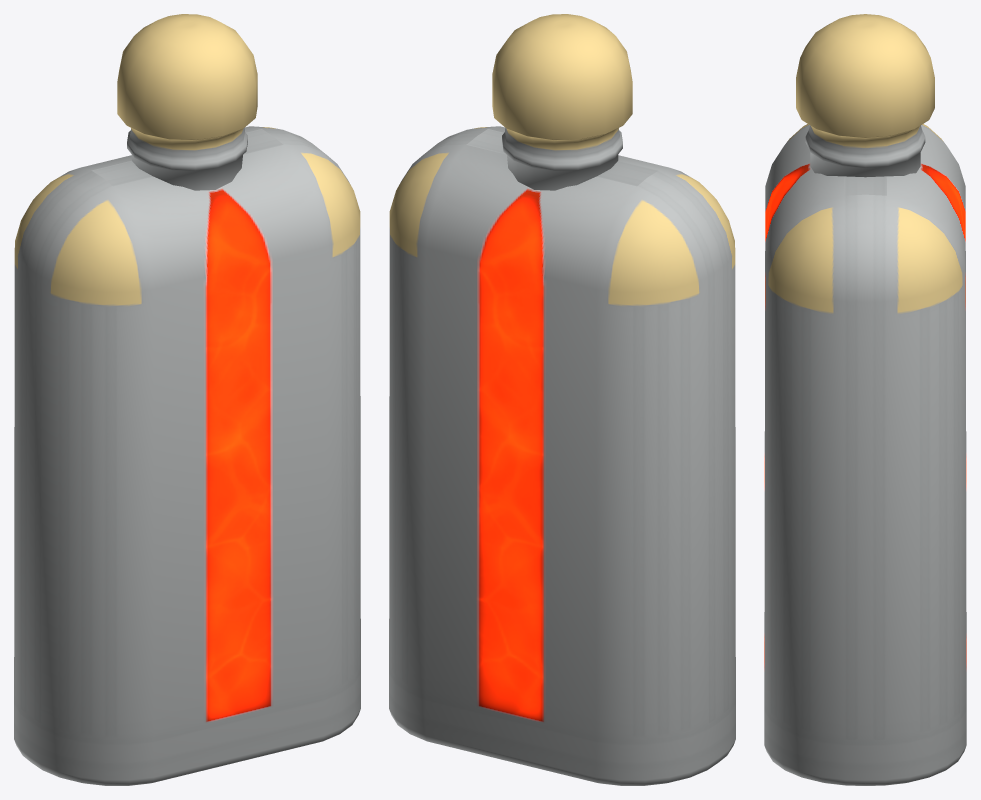
File: BarBottle01_5.FBX
3 renders of one model, left to right at view 1: azimuth 30°, elevation 25°; view 2: azimuth 150°, elevation 25°; view 3: azimuth 270°, elevation 25°, orthographic. The views are drawn at different scales.
Parts seen in each view (by area): view 1: BarBottle01_5; view 2: BarBottle01_5; view 3: BarBottle01_5.
Boxes of the visible parts, <box> form: BarBottle01_5: <box>14,14,360,785</box>; BarBottle01_5: <box>389,14,735,785</box>; BarBottle01_5: <box>764,14,966,785</box>.
Size of what is drawn, in the model's own units: 0.1278 by 0.2738 by 0.0725.
